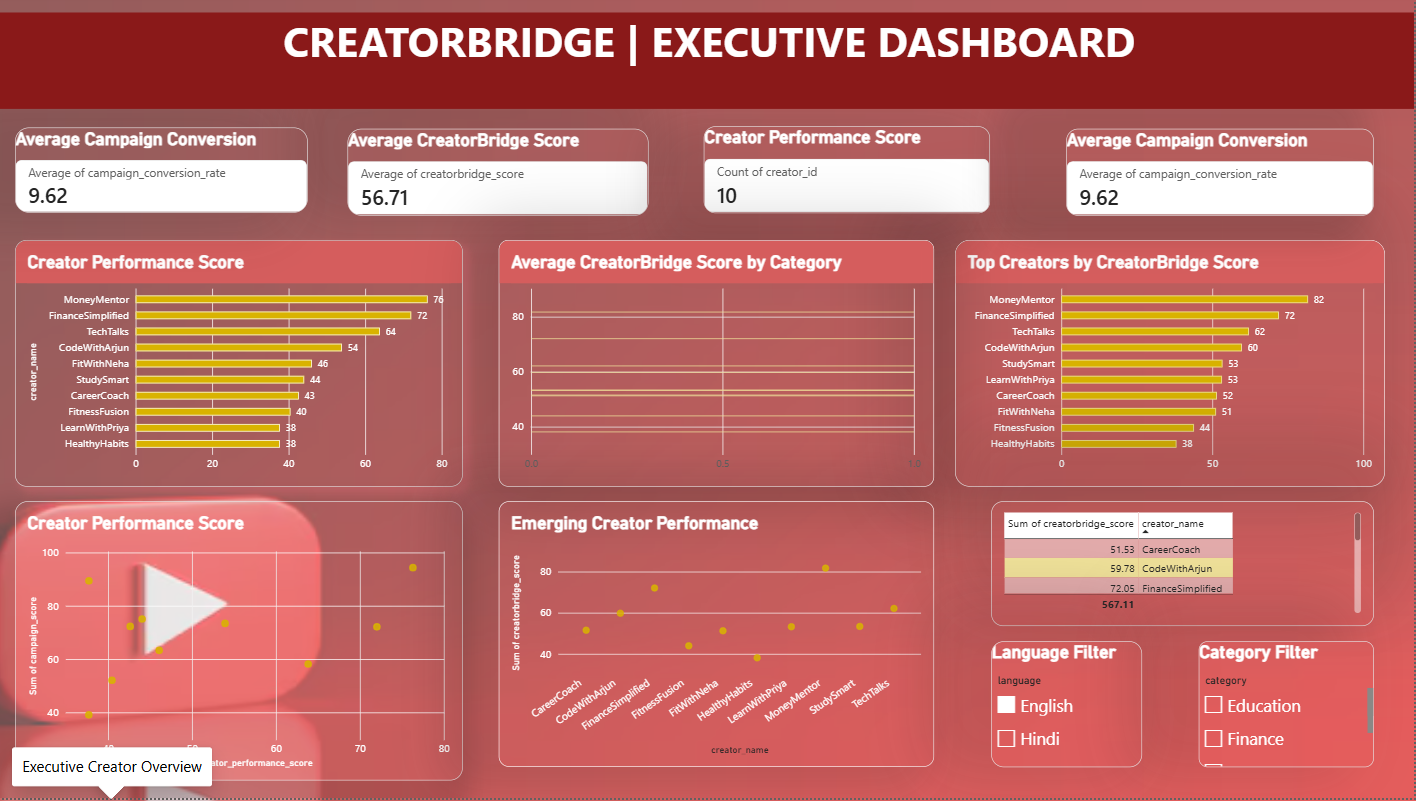

What the dashboard file says about the page in this screenshot:
{"tool":"powerbi","page":{"name":"Executive Creator Overview","canvas":[1920,1080],"ordinal":0},"visuals":[{"type":"clusteredBarChart","title":"Top Creators by CreatorBridge Score","fields":{"Category":["final_creator_scores.creator_name"],"Y":["Sum(final_creator_scores.creatorbridge_score)"]},"box":[1298.6,324.7,581.5,333.8],"z":0},{"type":"tableEx","fields":{"Values":["Sum(final_creator_scores.creatorbridge_score)","final_creator_scores.creator_name"]},"box":[1348.2,678.7,517.3,168.8],"z":1000},{"type":"cardVisual","title":"Average CreatorBridge Score","fields":{"Data":["Avg(final_creator_scores.creatorbridge_score)"]},"box":[476.9,174.3,407.2,117.4],"z":2000},{"type":"clusteredBarChart","title":"Creator Performance Score","fields":{"Category":["final_creator_scores.creator_name"],"Y":["Sum(final_creator_scores.creator_performance_score)"]},"box":[27.5,324.7,605.3,333.8],"z":3000},{"type":"cardVisual","title":"Creator Performance Score","fields":{"Data":["Count(final_creator_scores.creator_id)"]},"box":[959.3,170.6,387,117.4],"z":4000},{"type":"cardVisual","title":"Average Campaign Conversion","fields":{"Data":["Avg(final_creator_scores.campaign_conversion_rate)"]},"box":[1449.1,174.3,416.4,117.4],"z":5000},{"type":"clusteredBarChart","title":"Average CreatorBridge Score by Category","fields":{"Y":["CountNonNull(final_creator_scores.category)"],"Category":["final_creator_scores.creatorbridge_score"]},"box":[680.5,324.7,588.8,333.8],"z":6000},{"type":"scatterChart","title":"Creator Performance Score","fields":{"X":["final_creator_scores.creator_performance_score"],"Y":["Sum(final_creator_scores.campaign_score)"]},"box":[27.5,678.7,605.3,377.9],"z":7000},{"type":"cardVisual","title":"Average Campaign Conversion","fields":{"Data":["Avg(final_creator_scores.campaign_conversion_rate)"]},"box":[27.5,172.4,396.2,115.6],"z":8000},{"type":"scatterChart","title":"Emerging Creator Performance","fields":{"Y":["Sum(final_creator_scores.creatorbridge_score)"],"X":["final_creator_scores.creator_name"]},"box":[680.5,678.7,588.8,359.5],"z":9000},{"type":"slicer","title":"Category Filter","fields":{"Values":["final_creator_scores.category"]},"box":[1628.8,867.6,236.6,170.6],"z":10000},{"type":"slicer","title":"Language Filter","fields":{"Values":["final_creator_scores.language"]},"box":[1348.2,867.6,203.6,170.6],"z":11000},{"type":"textbox","box":[0,16.5,1920.5,130.2],"z":12000}]}

Visuals, with their boxes in screenshot pixels (x1, y1, x2, y2), scaled from the page's 1920x1080 canvas onto the 1416x801 screenshot:
"Top Creators by CreatorBridge Score" clusteredBarChart: box(958, 241, 1387, 488)
tableEx - Sum(final_creator_scores.creatorbridge_score) x final_creator_scores.creator_name: box(994, 503, 1376, 629)
"Average CreatorBridge Score" cardVisual: box(352, 129, 652, 216)
"Creator Performance Score" clusteredBarChart: box(20, 241, 467, 488)
"Creator Performance Score" cardVisual: box(707, 127, 993, 214)
"Average Campaign Conversion" cardVisual: box(1069, 129, 1376, 216)
"Average CreatorBridge Score by Category" clusteredBarChart: box(502, 241, 936, 488)
"Creator Performance Score" scatterChart: box(20, 503, 467, 784)
"Average Campaign Conversion" cardVisual: box(20, 128, 312, 214)
"Emerging Creator Performance" scatterChart: box(502, 503, 936, 770)
"Category Filter" slicer: box(1201, 643, 1376, 770)
"Language Filter" slicer: box(994, 643, 1144, 770)
textbox: box(0, 12, 1415, 109)
